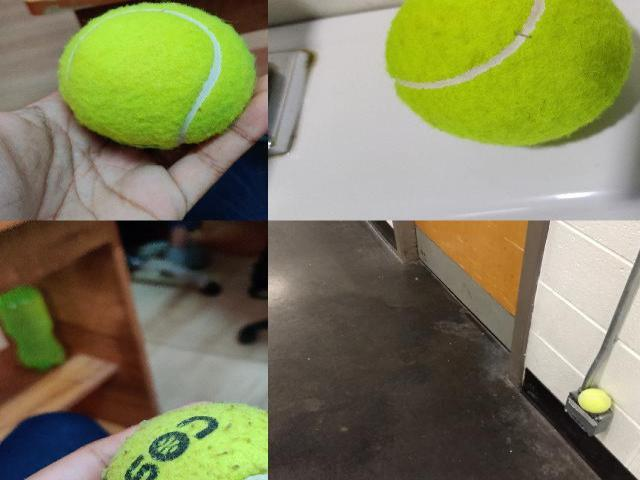tennis-ball: (382, 0, 634, 147), (58, 3, 255, 147), (102, 401, 267, 479), (576, 388, 612, 413)
